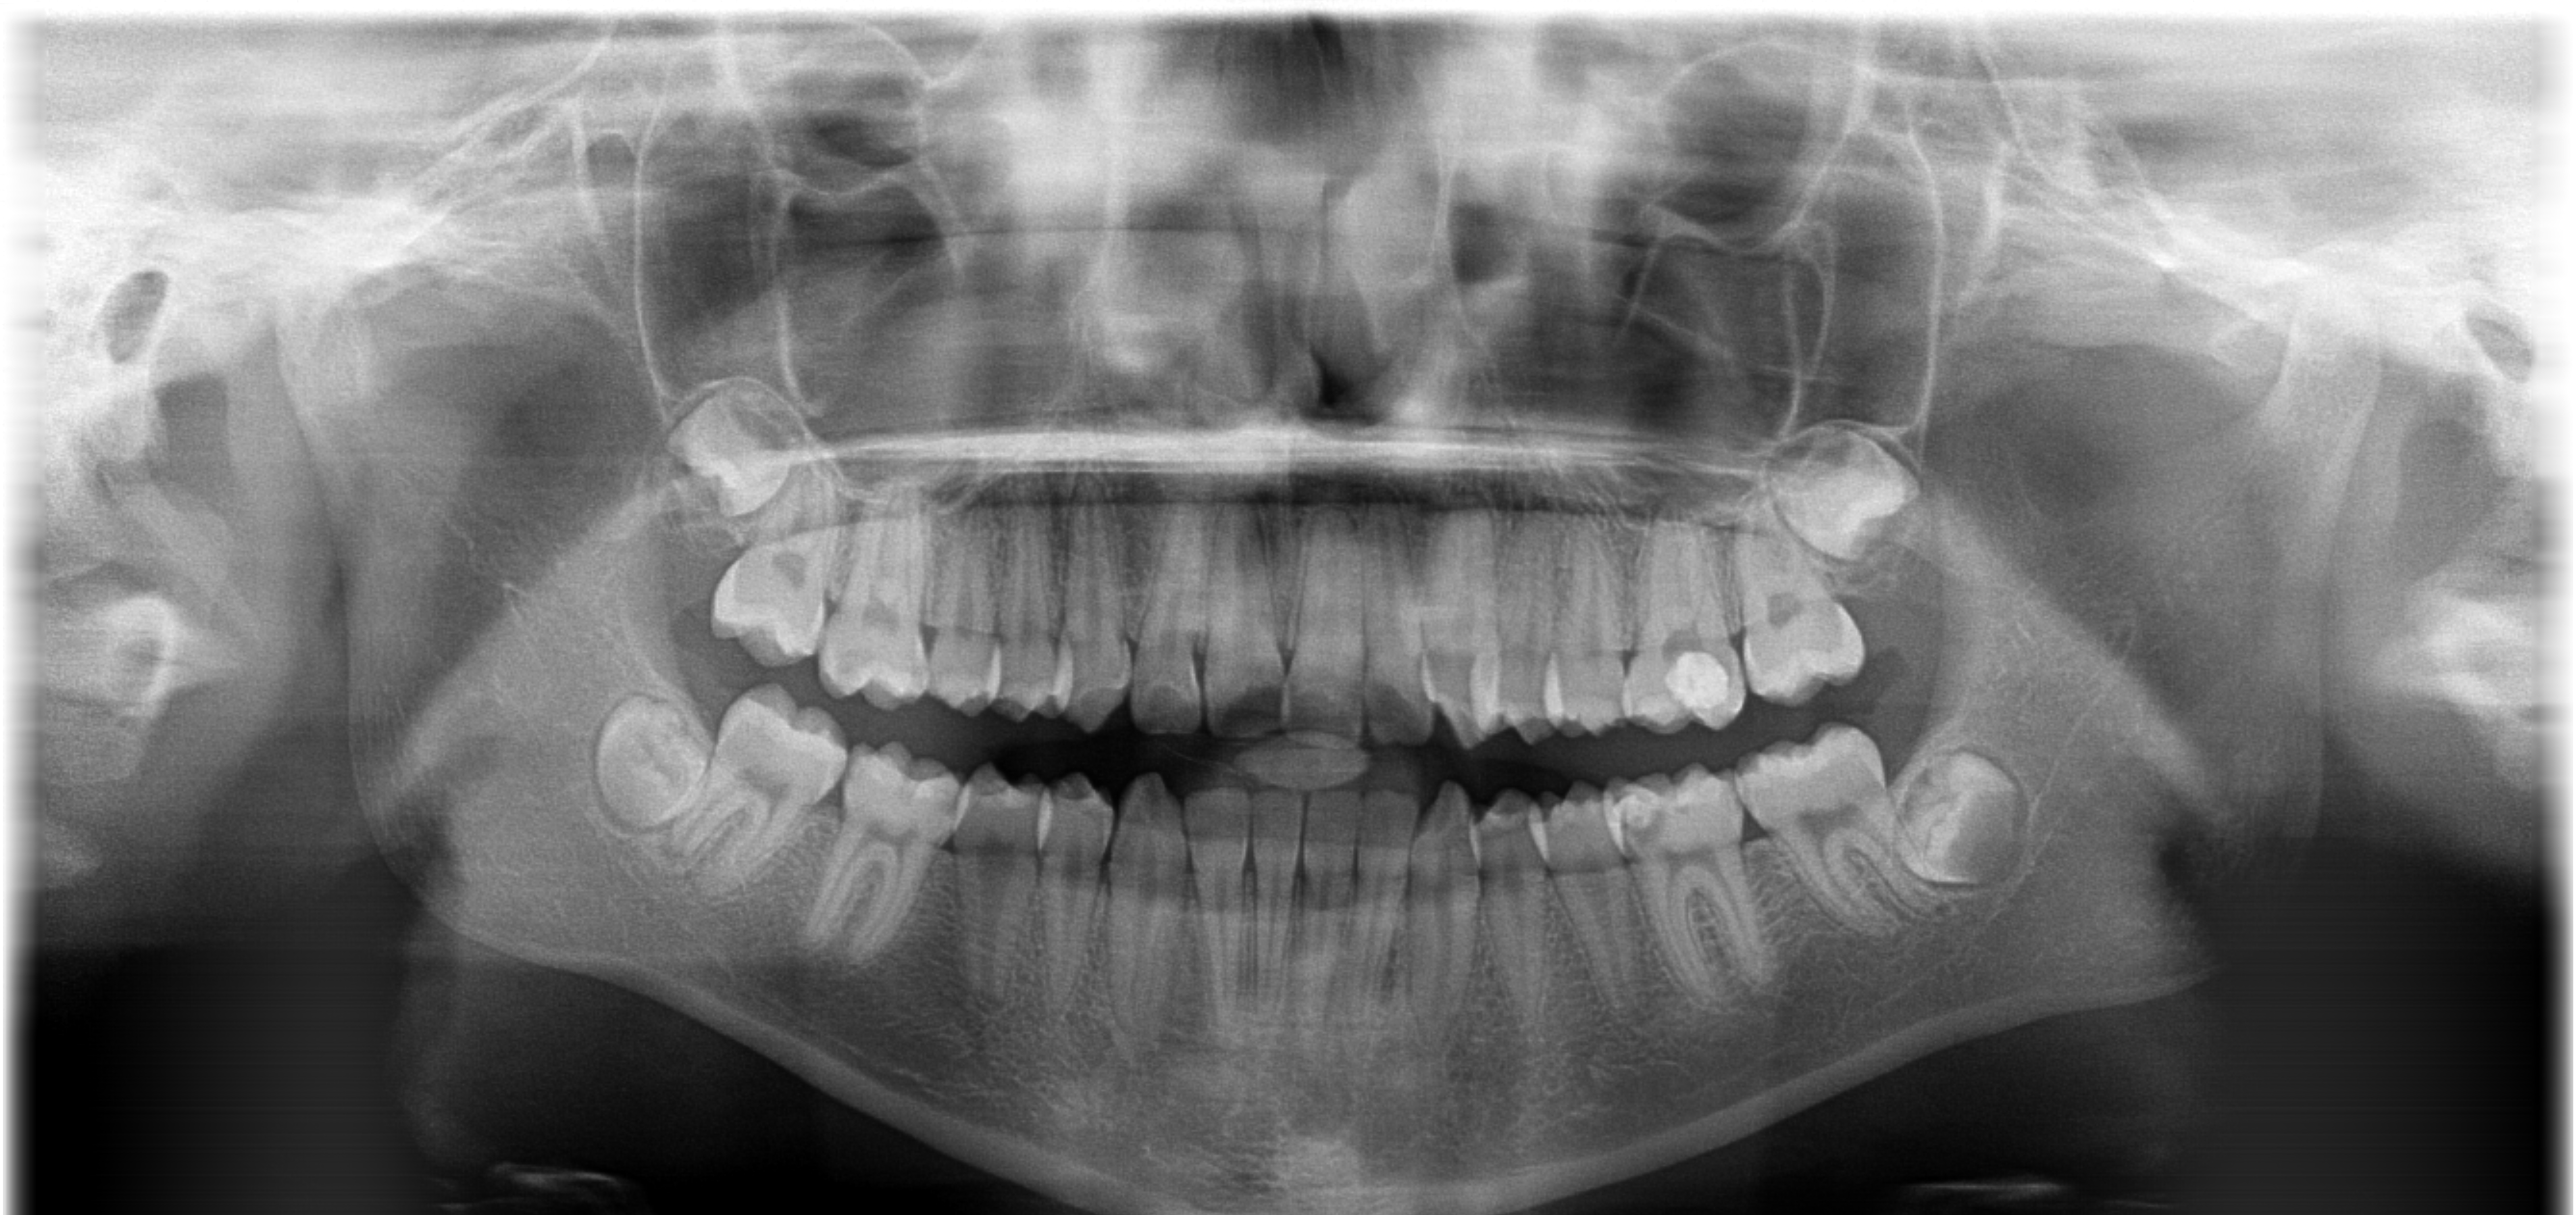cordal: (1746, 374, 1950, 596), (1863, 718, 2075, 926), (619, 353, 823, 539), (555, 650, 724, 860)
